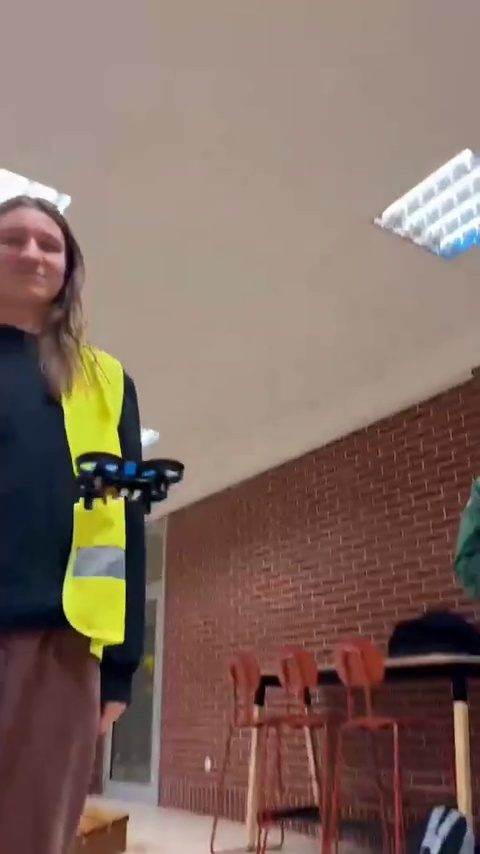drone: (68, 446, 183, 518)
vest: (0, 195, 149, 844)
